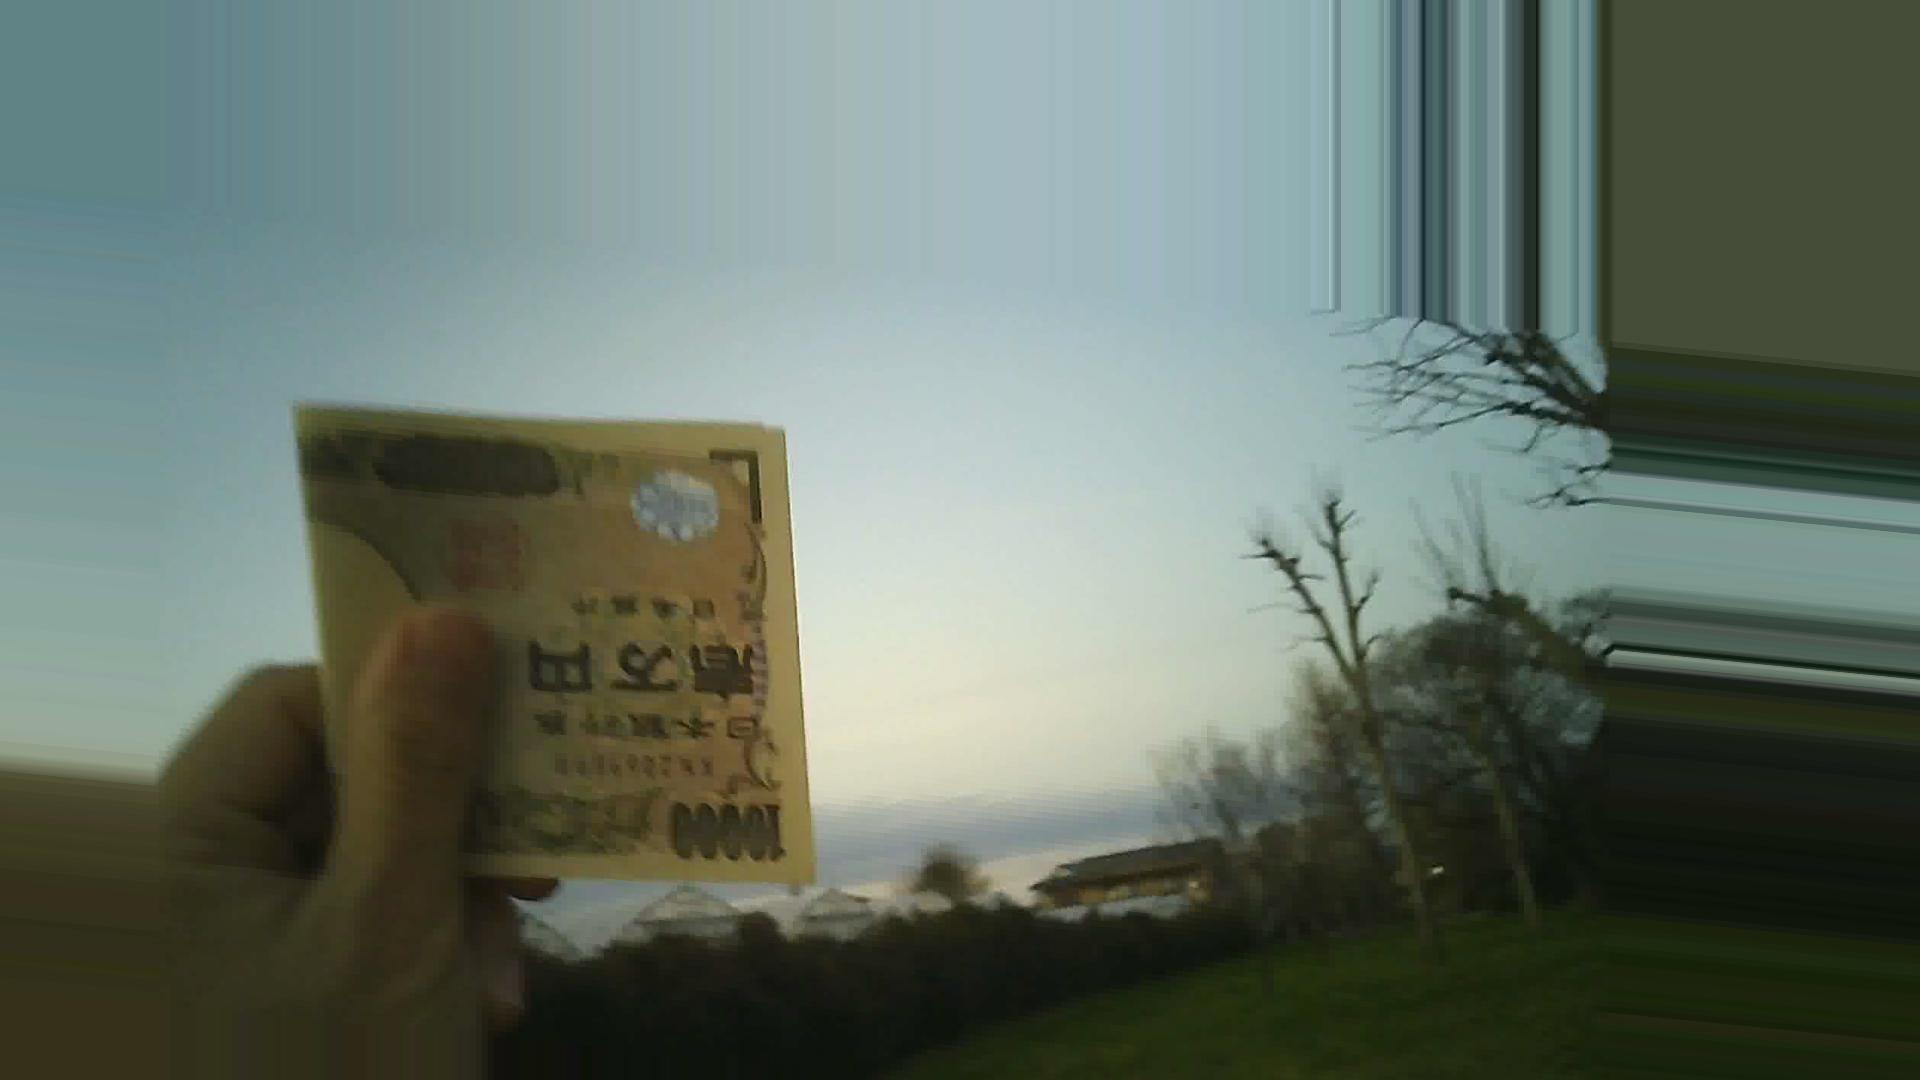10,000 Yen: (310, 386, 873, 919)
